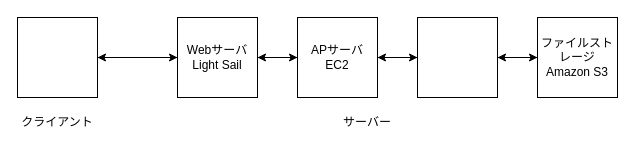
Image size: 635x155. Some labels were removed from this diagram. Each missing label, with the box of its shape:
DB Amazon RDB: (416, 16, 498, 98)
Webブラウザ: (16, 16, 98, 98)
